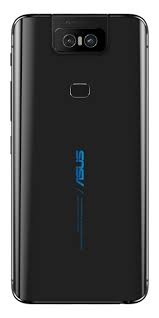asus: (8, 10, 149, 307)
